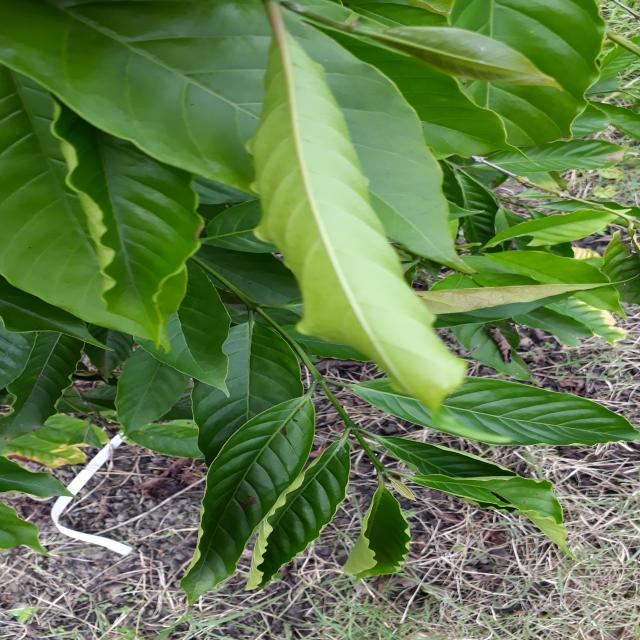Sanas: (252, 0, 470, 413)
